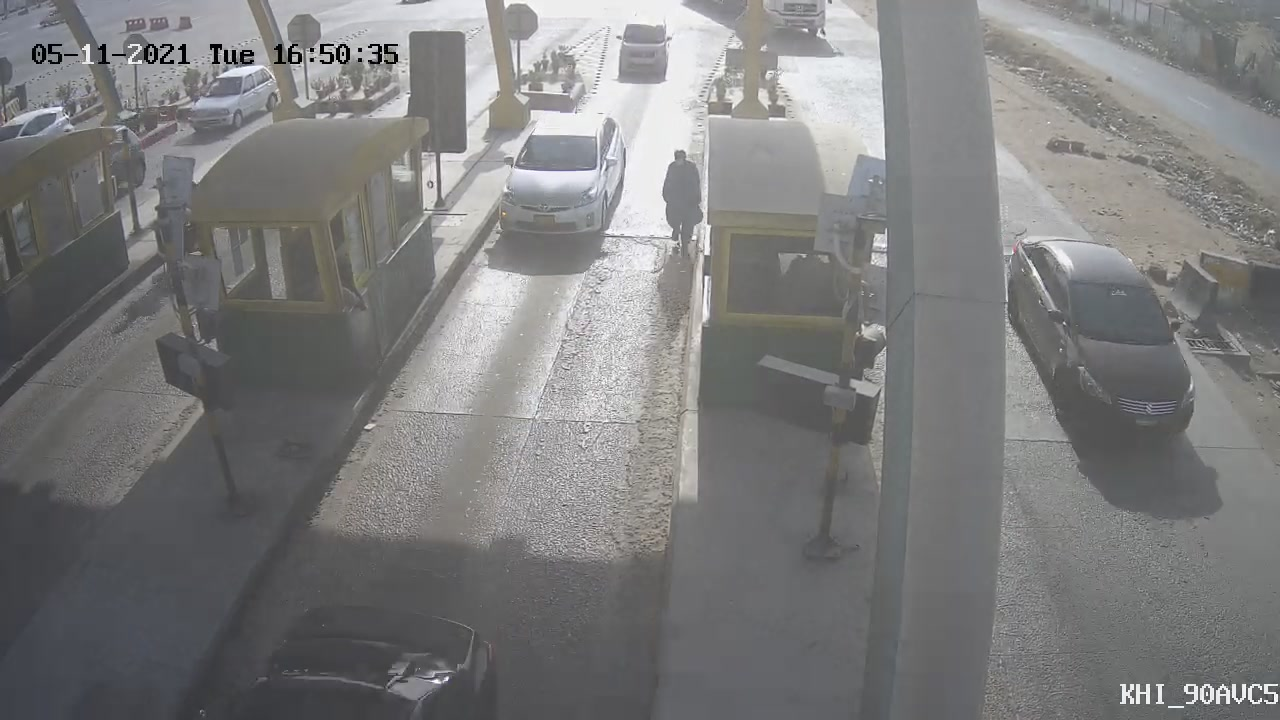F1: (479, 92, 642, 262)
